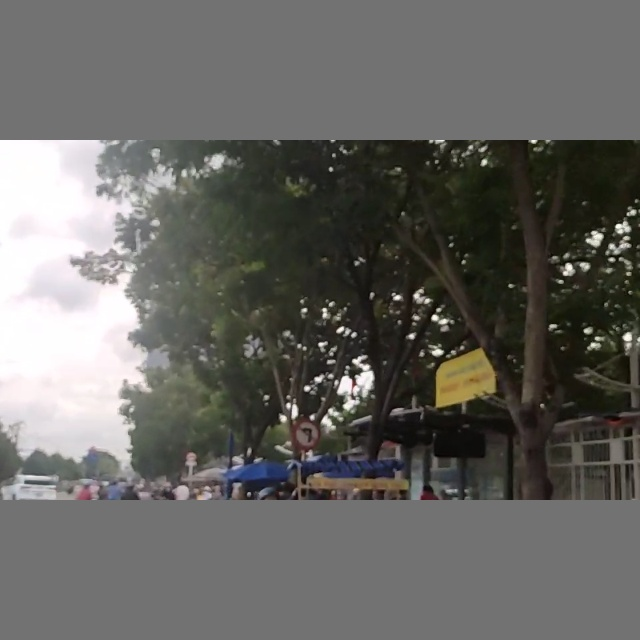P.123a: (291, 420, 321, 451)
